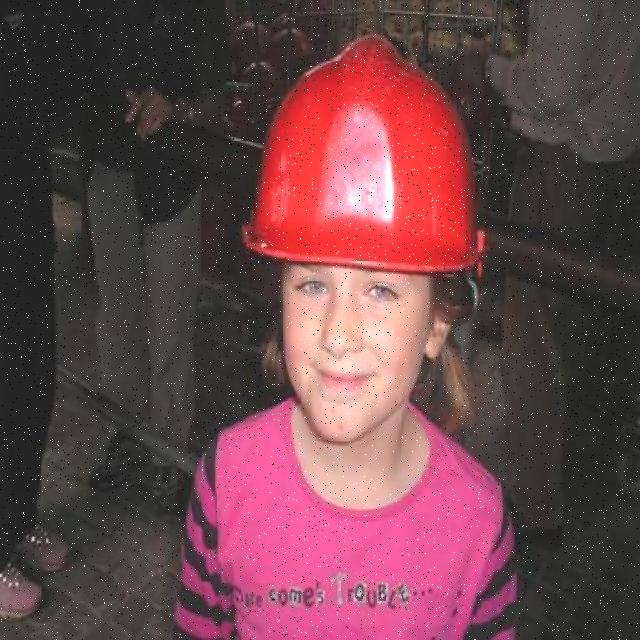Helmet: (243, 40, 488, 266)
